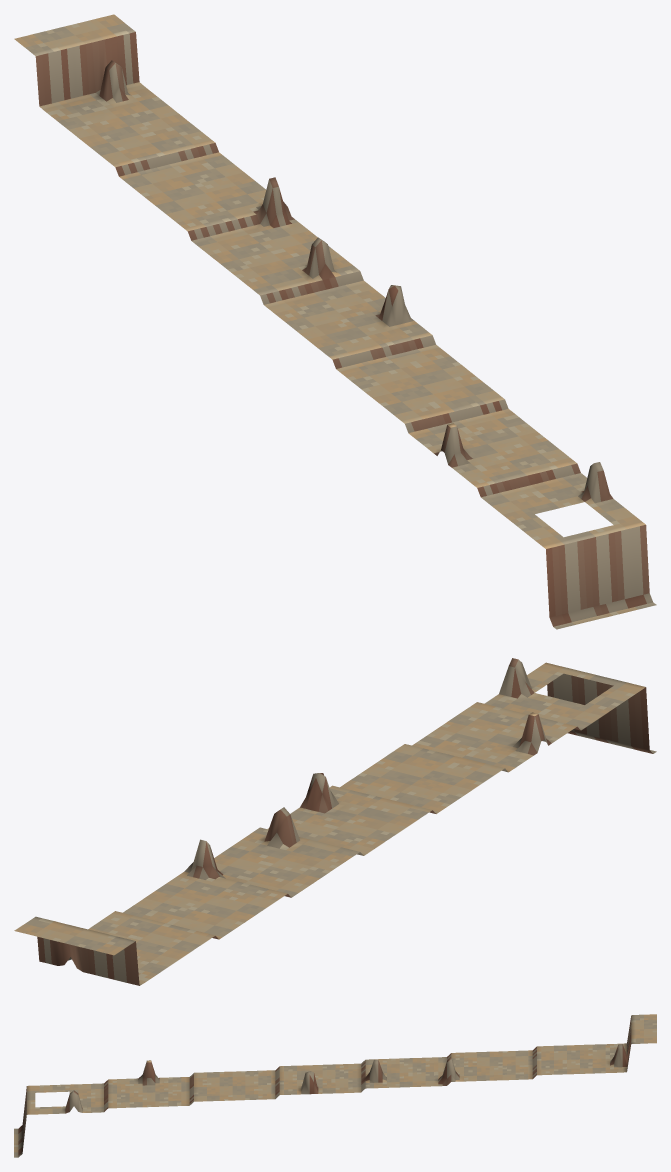
The model's file is isle_ride_wash_west.glb.
3 views of the same model, one above another, from view 1: azimuth 30°, elevation 25°; view 2: azimuth 150°, elevation 25°; view 3: azimuth 270°, elevation 25° (orthographic). The views are drawn at different scales.
Visible parts, largest first — view 1: isle_ride_wash_west; view 2: isle_ride_wash_west; view 3: isle_ride_wash_west.
Part boxes in pixels (bbox=[...]): isle_ride_wash_west: bbox=[14, 14, 656, 629]; isle_ride_wash_west: bbox=[14, 658, 656, 985]; isle_ride_wash_west: bbox=[14, 1014, 656, 1157].
Size of the model in its own units: 32 by 59.02 by 300.
